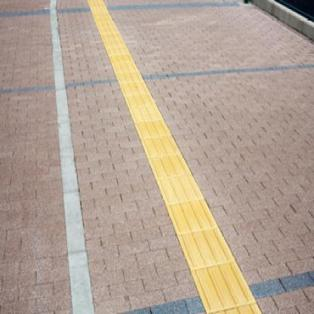Podoctatil: (79, 0, 277, 314)
